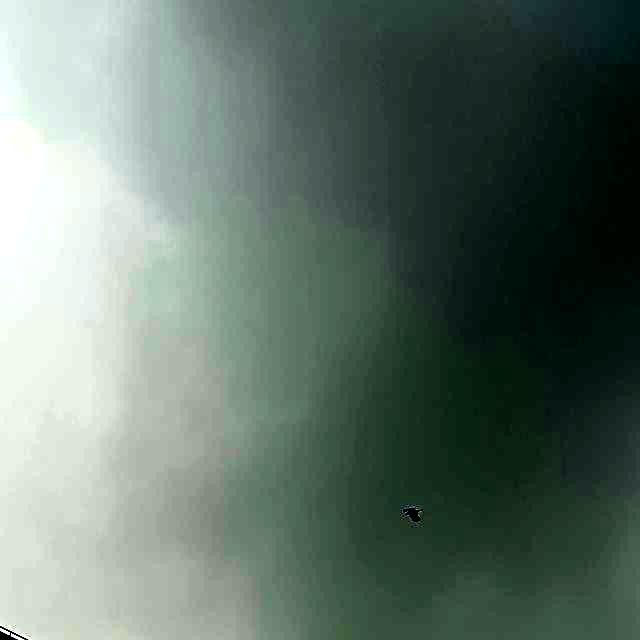bird: (398, 501, 426, 528)
